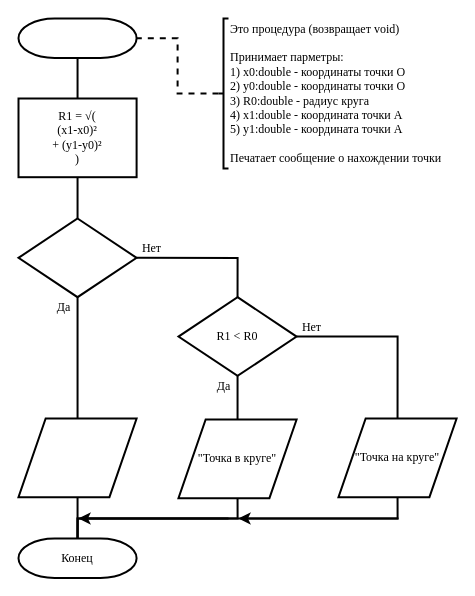
This 475x596 diagram has some shape labels left out. Here are the shapes that lost their labels. From the top down, the box of each, then its label:
(17, 17, 137, 58): Начало
(17, 217, 137, 298): R1 > R0
(17, 417, 137, 498): "Точка за кругом"
